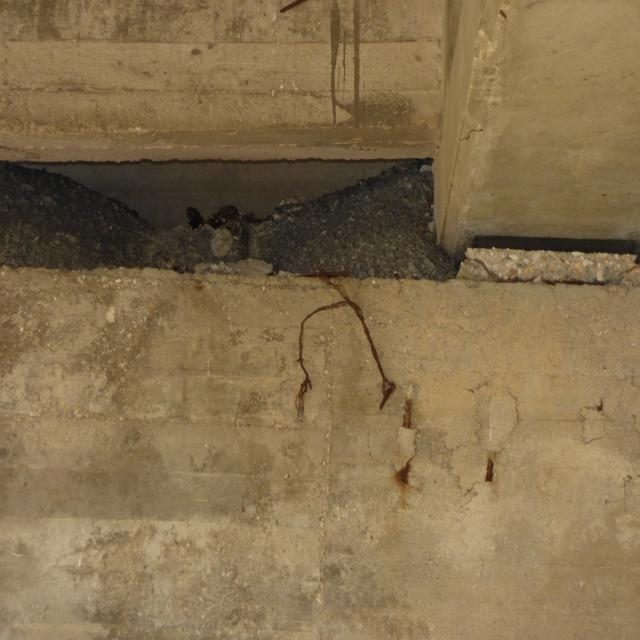corrosion: (292, 267, 524, 508), (273, 0, 320, 18)
